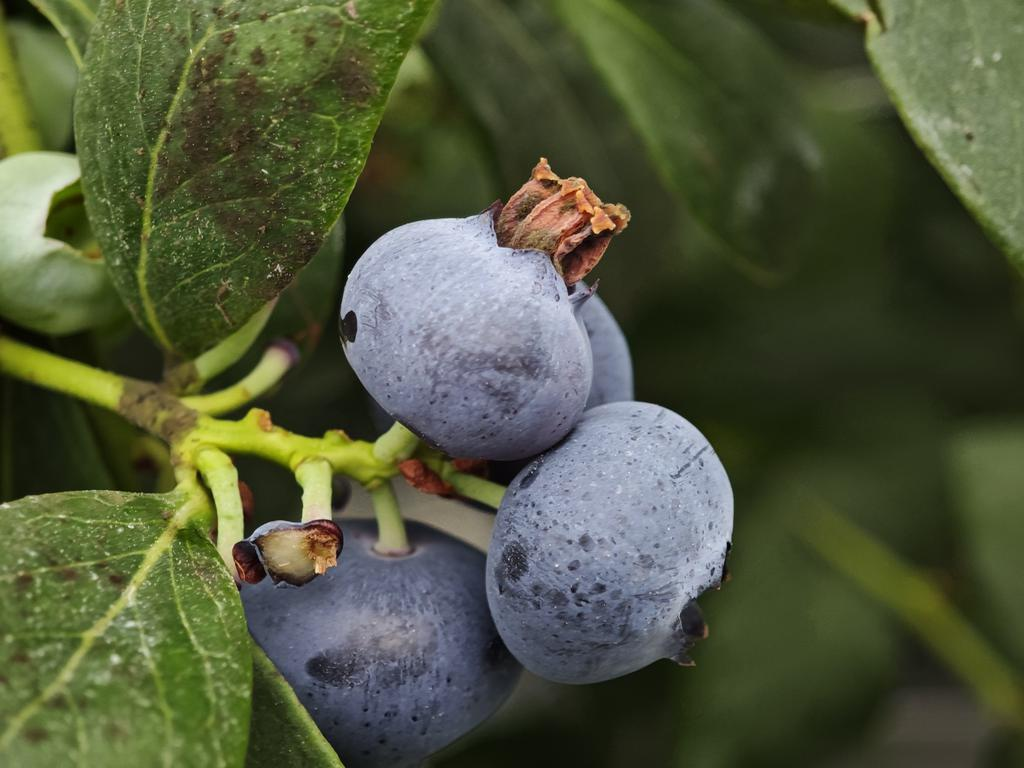RipeBlueBerry: (234, 510, 514, 761), (490, 404, 737, 687), (340, 208, 580, 459)
